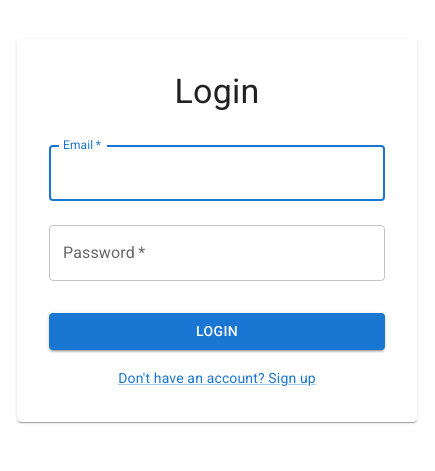
Test: LoginPage › shows error message when login fails
Type "test@example.com" into the field labelled "Email *".
click(217, 173); type("test@example.com")  # box [49,145,385,201]
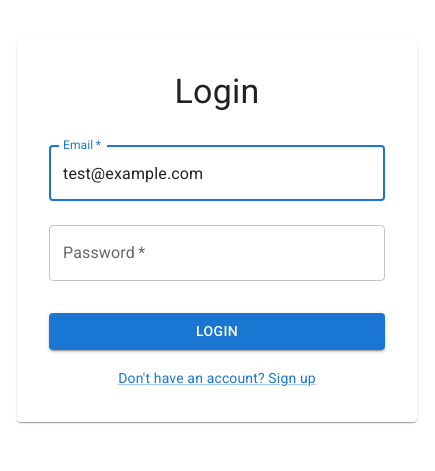
Type "wrongpassword" into the password field labelled "Password *".
click(217, 253); type("wrongpassword")  # box [49,225,385,281]
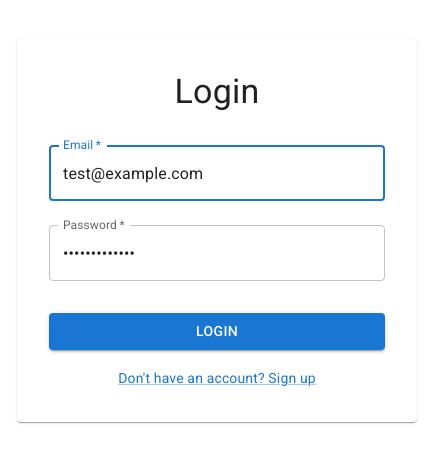
Click the button "Login".
click(217, 331)  # box [49,313,385,350]
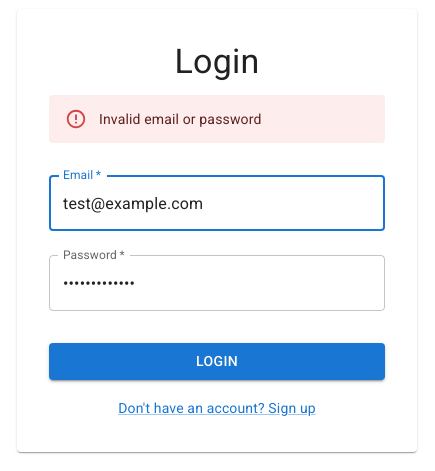
Check: the text "Invalid email or password" is shown, box [99,111,262,127]
